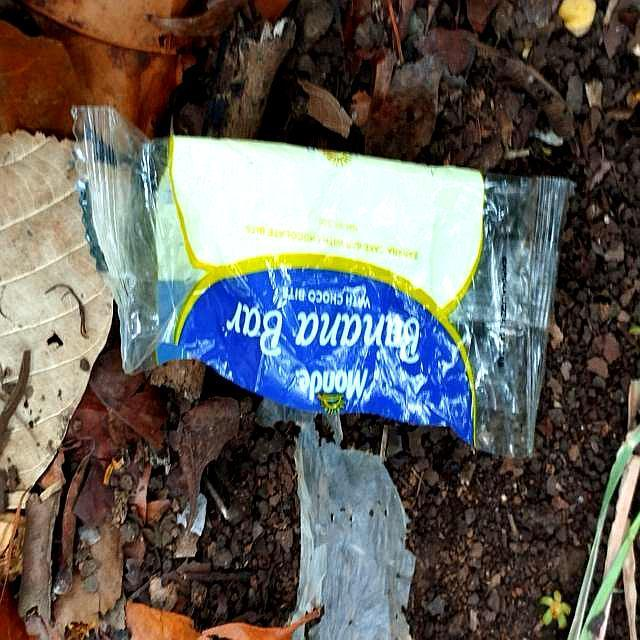Non-biodegradable: (67, 93, 567, 465)
